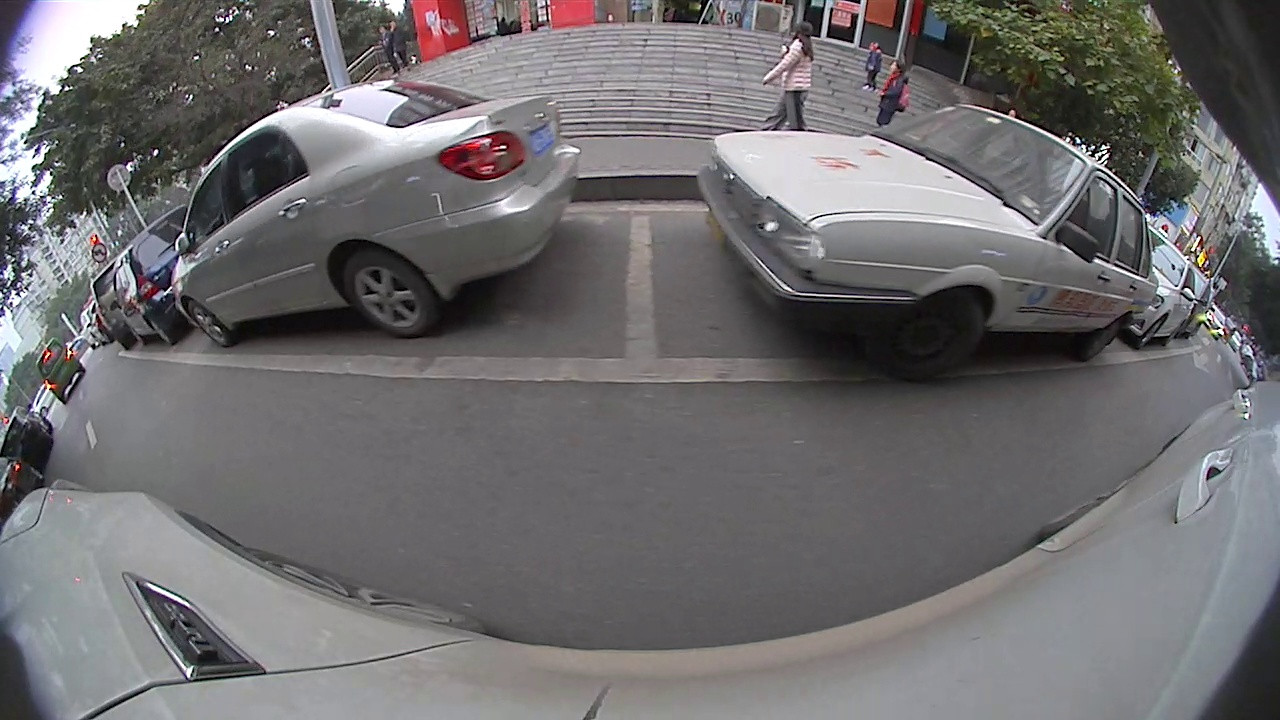car: (693, 99, 1157, 383), (166, 75, 582, 351), (118, 204, 208, 346), (1118, 227, 1202, 353)
front: (885, 282, 982, 375), (184, 304, 235, 349), (1140, 312, 1170, 350)
person: (781, 14, 819, 134), (888, 52, 913, 134)
rear: (344, 249, 439, 339), (1082, 310, 1124, 365)
